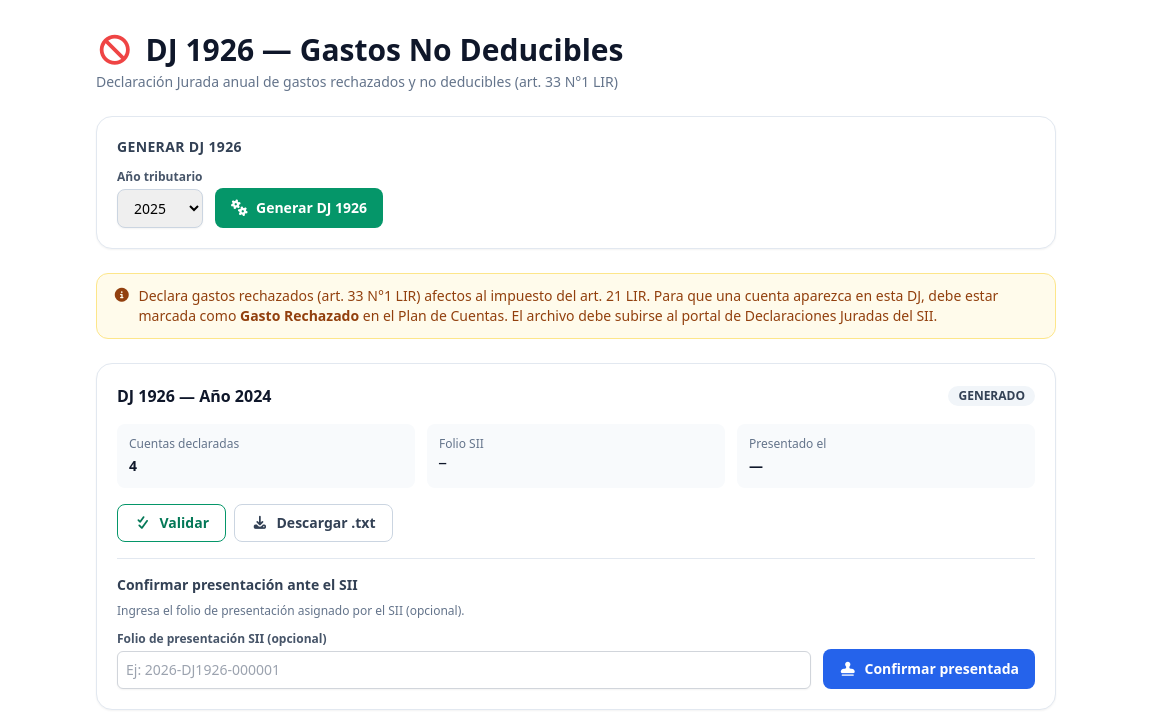
Test: Dj1926 (vista) › handleValidar muestra mensaje de error cuando falla
This screenshot has width=1152, height=712.
Click the button "Validar" at (172, 523), box x1=117 y1=504 x2=226 y2=542
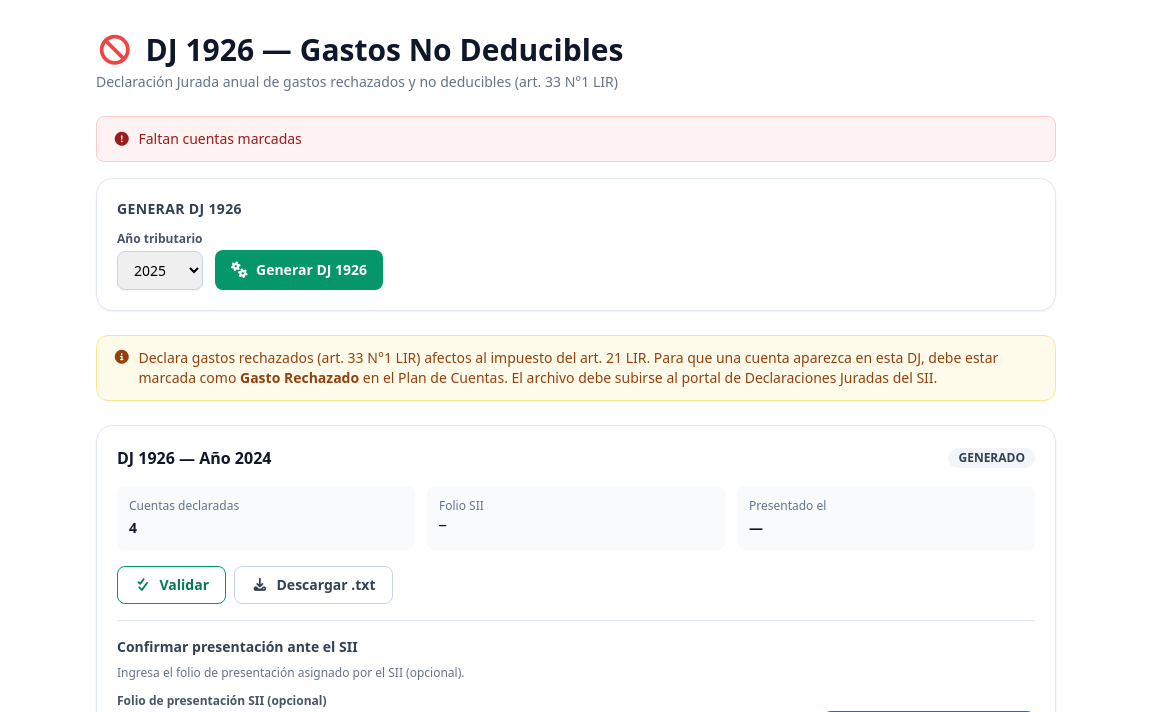
Now the text "Faltan cuentas marcadas" is shown, box x1=96 y1=116 x2=1056 y2=162
